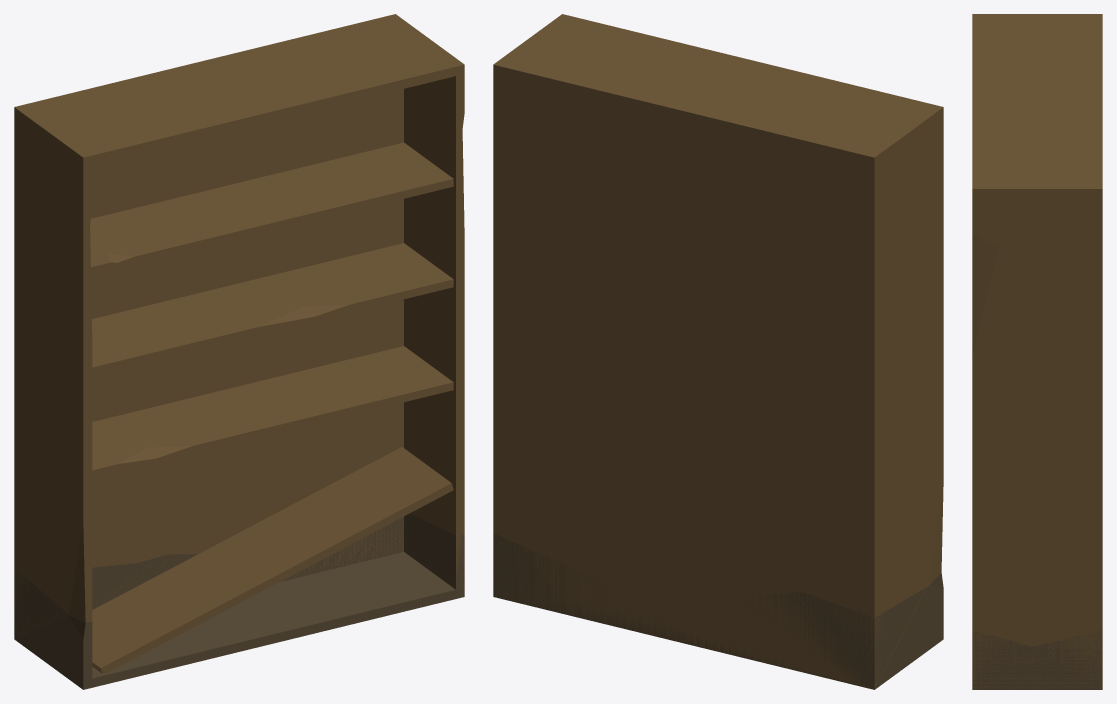
The model's file is model_bookshelf_01.fbx.
3 renders of one model, left to right at view 1: azimuth 30°, elevation 25°; view 2: azimuth 150°, elevation 25°; view 3: azimuth 270°, elevation 25°, orthographic. The views are drawn at different scales.
Parts seen in each view (by area): view 1: model_bookshelf_01, pasted__model_bookshelf_01_col; view 2: model_bookshelf_01, pasted__model_bookshelf_01_col; view 3: model_bookshelf_01, pasted__model_bookshelf_01_col.
Part boxes in pixels (<box>): model_bookshelf_01: <box>14,14,464,689</box>; pasted__model_bookshelf_01_col: <box>14,83,464,689</box>; model_bookshelf_01: <box>493,14,943,689</box>; pasted__model_bookshelf_01_col: <box>493,72,943,688</box>; model_bookshelf_01: <box>972,14,1102,689</box>; pasted__model_bookshelf_01_col: <box>972,189,1102,689</box>.
Bounding box in the file's own units: 236 × 315 × 74.23.
Materials: 1 (1 with a texture image).
